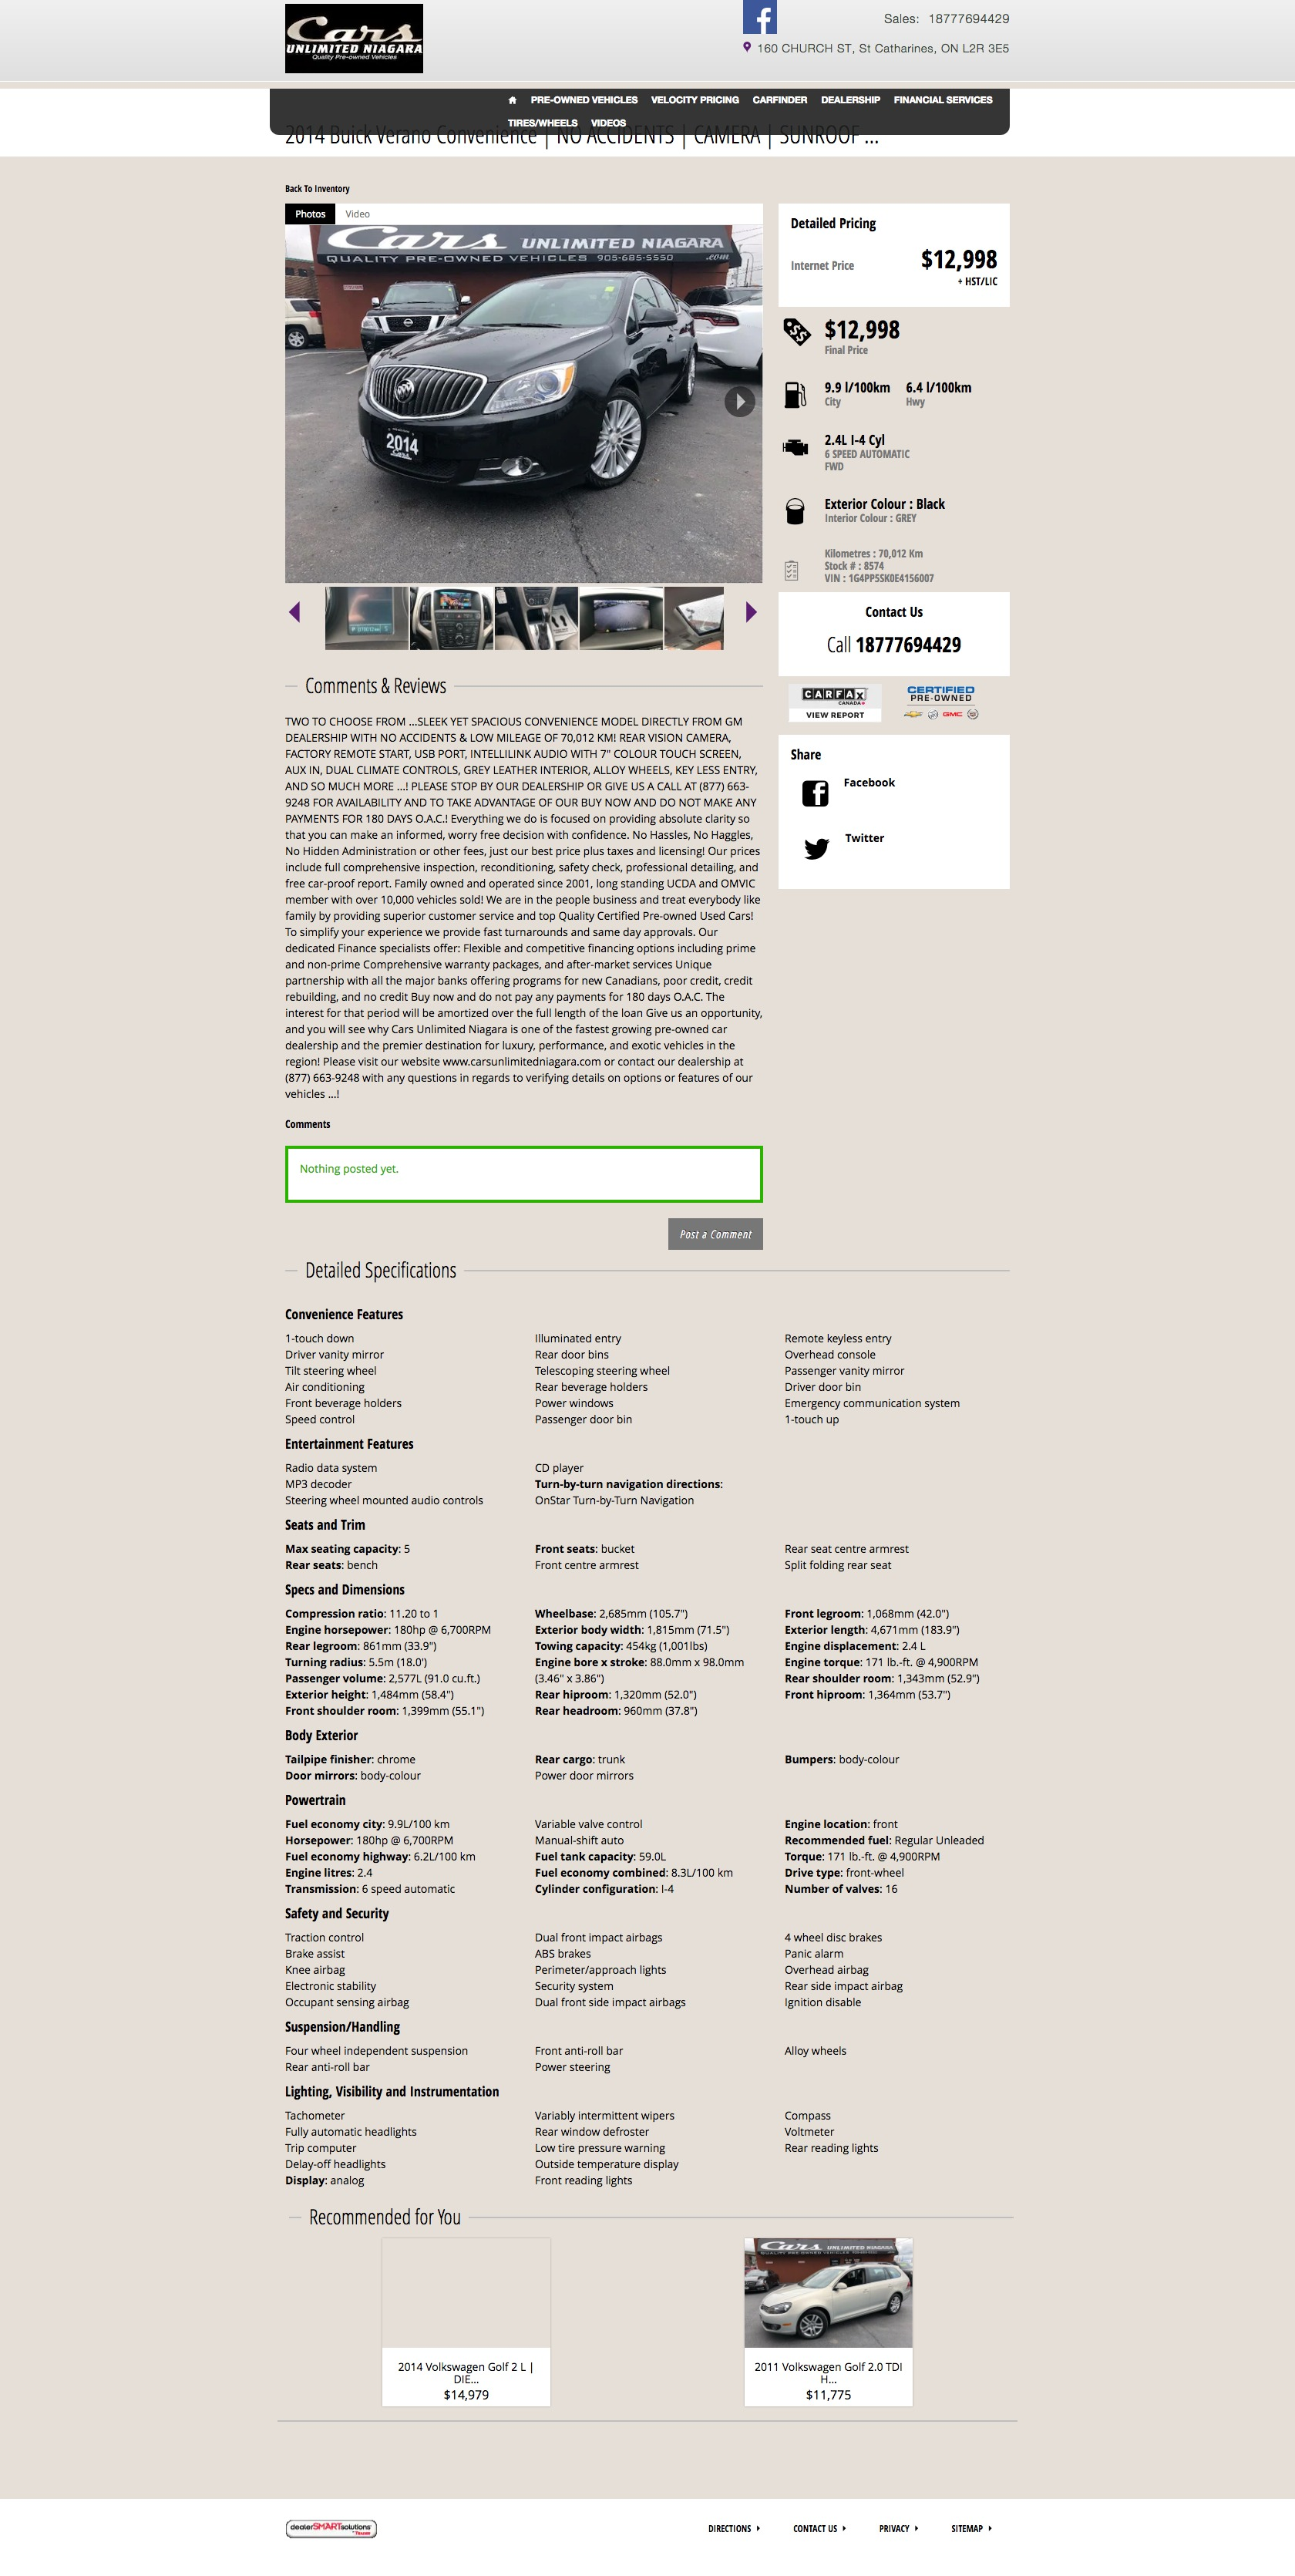car: (745, 601, 758, 624)
